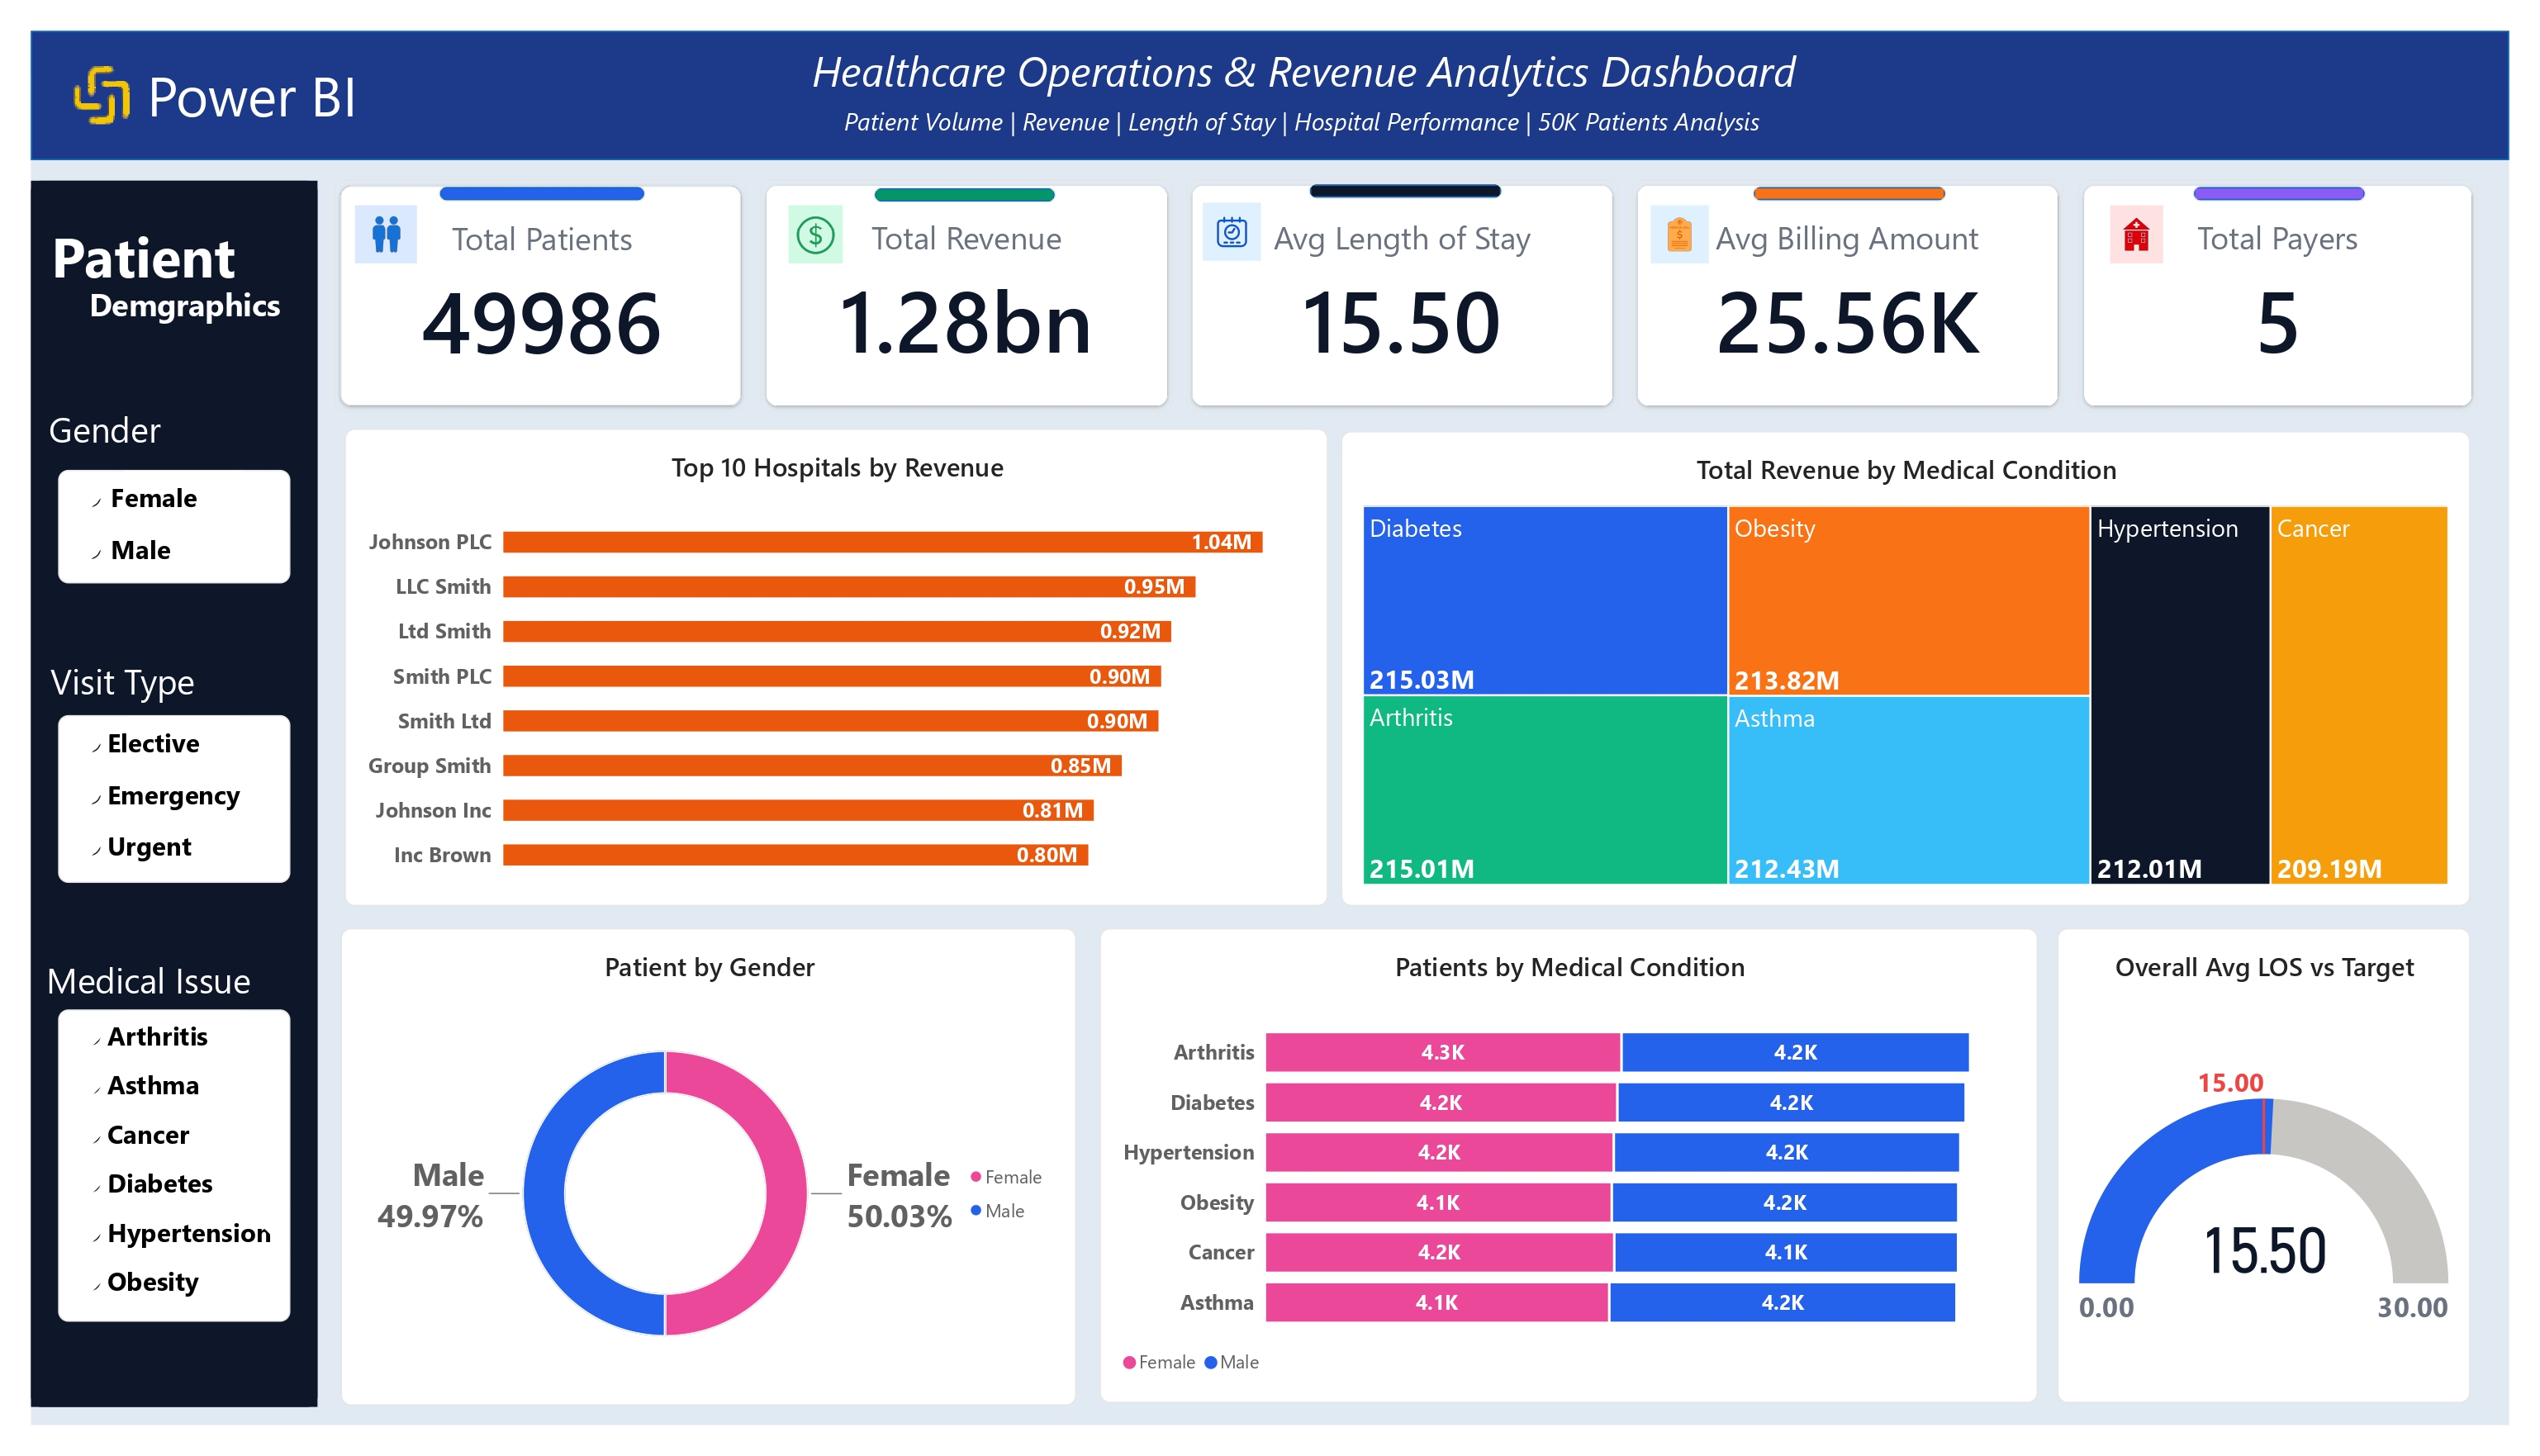

The page's visual inventory and layout, read from the dashboard file:
{"tool":"powerbi","page":{"name":"Page 1","canvas":[1920,1080],"ordinal":0},"visuals":[{"type":"cardVisual","title":"Overall Churn Rate","fields":{"Data":["Final_Healthcare.Total Patients"]},"box":[235,115,320,180],"z":0,"group":"g5"},{"type":"cardVisual","title":"Overall Churn Rate","fields":{"Data":["Final_Healthcare.Avg LOS"]},"box":[895,115,335,180],"z":0,"group":"g3"},{"type":"cardVisual","title":"Overall Churn Rate","fields":{"Data":["Final_Healthcare.Total Insurance Providers"]},"box":[1586,115,310,180],"z":0,"group":"g1"},{"type":"shape","box":[0,116,222,950],"z":0},{"type":"cardVisual","title":"Overall Churn Rate","fields":{"Data":["Final_Healthcare.Total Revenue"]},"box":[565,115,320,180],"z":1000,"group":"g4"},{"type":"cardVisual","title":"Overall Churn Rate","fields":{"Data":["Final_Healthcare.Avg Bill"]},"box":[1240,115,335,180],"z":1000,"group":"g2"},{"type":"group","id":"g1","title":"Group 4","box":[1586,115,316,180],"z":1000},{"type":"shape","box":[990,117.5,150,12],"z":1000,"group":"g3"},{"type":"shape","box":[1675,120,134.1,12],"z":1000,"group":"g1"},{"type":"group","id":"g2","title":"Group 2","box":[1240,115,358.9,180],"z":2000},{"type":"image","box":[908,132.5,45,45],"z":2000,"group":"g3"},{"type":"image","box":[1611.4,135,40.2,45],"z":2000,"group":"g1"},{"type":"shape","box":[1334,120,150,12],"z":3000,"group":"g2"},{"type":"shape","box":[652.5,120.8,141.2,12],"z":3000,"group":"g4"},{"type":"textbox","box":[965,255.5,275.1,31.5],"z":3000,"group":"g3"},{"type":"textbox","box":[477,258,290,30],"z":3000},{"type":"textbox","box":[1642.7,263,259.3,30],"z":3000,"group":"g1"},{"type":"group","id":"g3","title":"Group 5","box":[895,115,345.1,180],"z":4000},{"type":"shape","box":[316,120,160,12],"z":4000,"group":"g5"},{"type":"shape","box":[0,0,1920,100],"z":5000},{"type":"image","box":[1255.5,135,45,45],"z":5000,"group":"g2"},{"type":"textbox","box":[90,20,170,70],"z":6000},{"type":"image","box":[586.6,135,42.4,45],"z":6000,"group":"g4"},{"type":"textbox","box":[605,8,800,45],"z":7000},{"type":"textbox","box":[1335.1,258,263.8,36],"z":7000,"group":"g2"},{"type":"textbox","box":[630,57,770,35],"z":8000},{"type":"image","box":[251.2,135,48,45],"z":8000,"group":"g5"},{"type":"image","box":[15,10,80,80],"z":9000},{"type":"barChart","title":" Patients by Medical Condition","fields":{"Category":["Final_Healthcare.Medical_Condition"],"Y":["CountNonNull(Final_Healthcare.Clean_Name)"],"Series":["Final_Healthcare.Gender"]},"box":[827.5,695,727.5,367.5],"z":10000},{"type":"donutChart","title":"Patient by Gender","fields":{"Category":["Final_Healthcare.Gender"],"Y":["CountNonNull(Final_Healthcare.Clean_Name)"]},"box":[240,695,570,370],"z":11000},{"type":"gauge","title":"Overall Avg LOS vs Target","fields":{"Y":["Final_Healthcare.Avg Length of Stay"]},"box":[1570,695,320,367.5],"z":12000},{"type":"treemap","title":"Total Revenue by Medical Condition","fields":{"Group":["Final_Healthcare.Medical_Condition"],"Values":["Sum(Final_Healthcare.Billing_Amount)"]},"box":[1015,310,875,367.5],"z":13000},{"type":"clusteredBarChart","title":"Top 10 Hospitals by Revenue","fields":{"Category":["Final_Healthcare.Hospital"],"Y":["Sum(Final_Healthcare.Billing_Amount)"]},"box":[242.5,307.5,762.5,370],"z":14000},{"type":"listSlicer","fields":{"Values":["Final_Healthcare.Gender"]},"box":[21,340,180,87.5],"z":15000},{"type":"group","id":"g4","title":"Group 1","box":[565,115,320,180],"z":16000},{"type":"group","id":"g5","title":"Group 3","box":[235,115,320,180],"z":17000},{"type":"listSlicer","fields":{"Values":["Final_Healthcare.Admission_Type"]},"box":[21,530,180,130],"z":18000},{"type":"listSlicer","fields":{"Values":["Final_Healthcare.Medical_Condition"]},"box":[21,757.5,180,242.5],"z":19000},{"type":"textbox","box":[16,145,220,60],"z":20000},{"type":"textbox","box":[45,195,250,50],"z":21000},{"type":"textbox","box":[14,290,250,50],"z":22000},{"type":"textbox","box":[15,485,300,60],"z":23000},{"type":"textbox","box":[12,717,300,60],"z":24000}]}

Visuals, with their boxes on the page's 1920x1080 design canvas (x1, y1, x2, y2). These are canvas units, not pixel positions in the 2540x1456 screenshot, which may show the page scaled, cropped or inside an application window:
"Overall Churn Rate" cardVisual: [x1=235, y1=115, x2=555, y2=295]
"Overall Churn Rate" cardVisual: [x1=895, y1=115, x2=1230, y2=295]
"Overall Churn Rate" cardVisual: [x1=1586, y1=115, x2=1896, y2=295]
shape: [x1=0, y1=116, x2=222, y2=1066]
"Overall Churn Rate" cardVisual: [x1=565, y1=115, x2=885, y2=295]
"Overall Churn Rate" cardVisual: [x1=1240, y1=115, x2=1575, y2=295]
"Group 4" group: [x1=1586, y1=115, x2=1902, y2=295]
shape: [x1=990, y1=118, x2=1140, y2=130]
shape: [x1=1675, y1=120, x2=1809, y2=132]
"Group 2" group: [x1=1240, y1=115, x2=1599, y2=295]
image: [x1=908, y1=132, x2=953, y2=178]
image: [x1=1611, y1=135, x2=1652, y2=180]
shape: [x1=1334, y1=120, x2=1484, y2=132]
shape: [x1=652, y1=121, x2=794, y2=133]
textbox: [x1=965, y1=256, x2=1240, y2=287]
textbox: [x1=477, y1=258, x2=767, y2=288]
textbox: [x1=1643, y1=263, x2=1902, y2=293]
"Group 5" group: [x1=895, y1=115, x2=1240, y2=295]
shape: [x1=316, y1=120, x2=476, y2=132]
shape: [x1=0, y1=0, x2=1920, y2=100]
image: [x1=1256, y1=135, x2=1300, y2=180]
textbox: [x1=90, y1=20, x2=260, y2=90]
image: [x1=587, y1=135, x2=629, y2=180]
textbox: [x1=605, y1=8, x2=1405, y2=53]
textbox: [x1=1335, y1=258, x2=1599, y2=294]
textbox: [x1=630, y1=57, x2=1400, y2=92]
image: [x1=251, y1=135, x2=299, y2=180]
image: [x1=15, y1=10, x2=95, y2=90]
" Patients by Medical Condition" barChart: [x1=828, y1=695, x2=1555, y2=1062]
"Patient by Gender" donutChart: [x1=240, y1=695, x2=810, y2=1065]
"Overall Avg LOS vs Target" gauge: [x1=1570, y1=695, x2=1890, y2=1062]
"Total Revenue by Medical Condition" treemap: [x1=1015, y1=310, x2=1890, y2=678]
"Top 10 Hospitals by Revenue" clusteredBarChart: [x1=242, y1=308, x2=1005, y2=678]
listSlicer - Final_Healthcare.Gender: [x1=21, y1=340, x2=201, y2=428]
"Group 1" group: [x1=565, y1=115, x2=885, y2=295]
"Group 3" group: [x1=235, y1=115, x2=555, y2=295]
listSlicer - Final_Healthcare.Admission_Type: [x1=21, y1=530, x2=201, y2=660]
listSlicer - Final_Healthcare.Medical_Condition: [x1=21, y1=758, x2=201, y2=1000]
textbox: [x1=16, y1=145, x2=236, y2=205]
textbox: [x1=45, y1=195, x2=295, y2=245]
textbox: [x1=14, y1=290, x2=264, y2=340]
textbox: [x1=15, y1=485, x2=315, y2=545]
textbox: [x1=12, y1=717, x2=312, y2=777]
